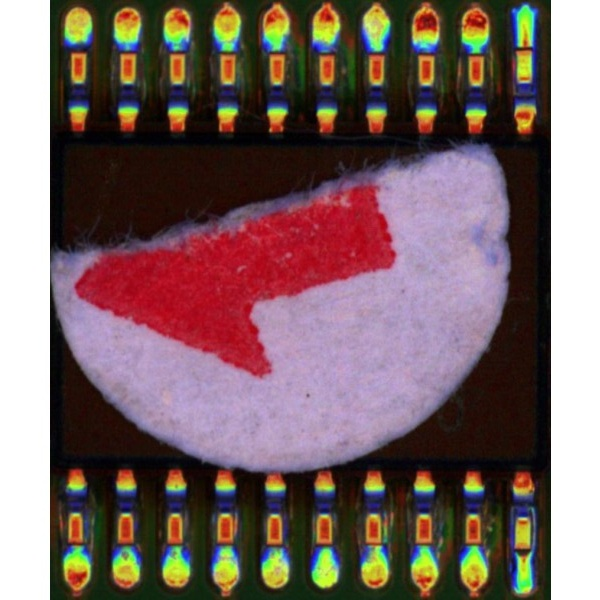Bad_podu: (518, 32, 529, 64), (516, 542, 529, 569)
Bad_qiaojiao: (529, 507, 537, 550)
